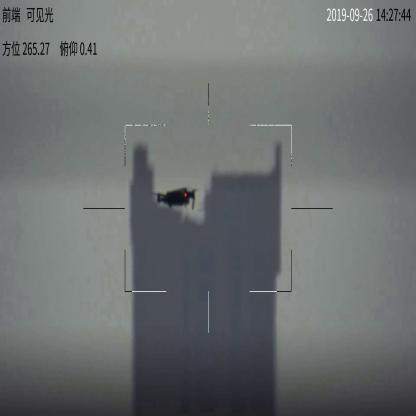uav: (150, 186, 200, 212)
